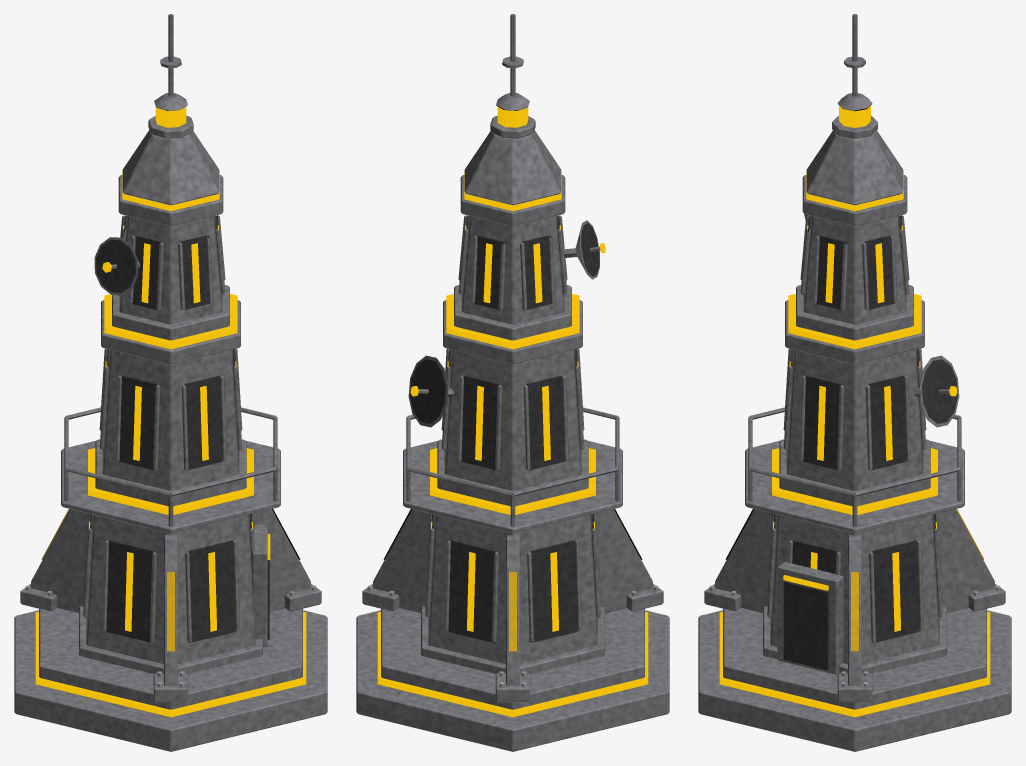
Rendered from nodexeus-spire.glb.
3 renders of one model, left to right at view 1: azimuth 30°, elevation 25°; view 2: azimuth 150°, elevation 25°; view 3: azimuth 270°, elevation 25°, orthographic.
Visible parts, largest first — view 1: spire; view 2: spire; view 3: spire.
Part boxes in pixels (x1,y1,x2,y2): spire: (14,14,327,751); spire: (356,14,669,751); spire: (698,14,1011,751).
Size of the model in its own units: 2.27 by 4.6 by 1.97.
1 material, 1 textured.
